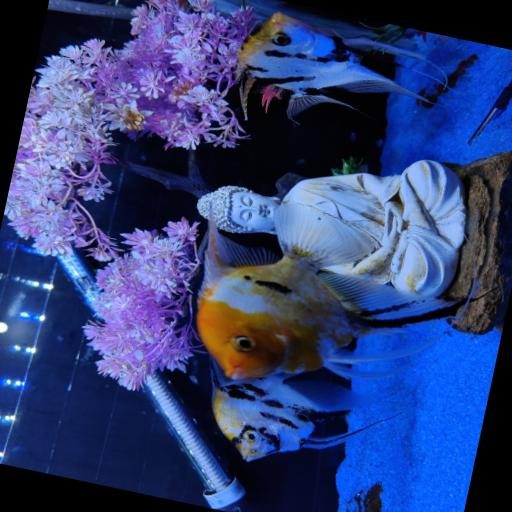Fish: (197, 203, 457, 378), (237, 12, 429, 118), (211, 358, 390, 460)
